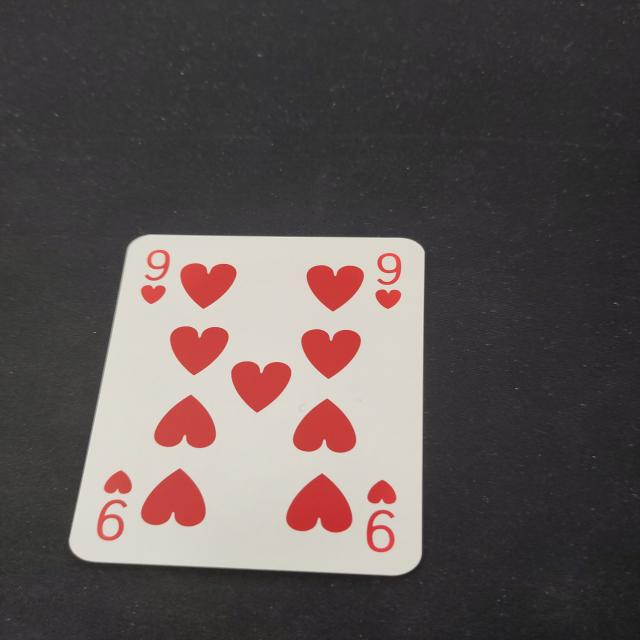9h: (349, 470, 407, 566), (85, 459, 139, 548), (128, 243, 182, 317), (365, 246, 412, 328)
